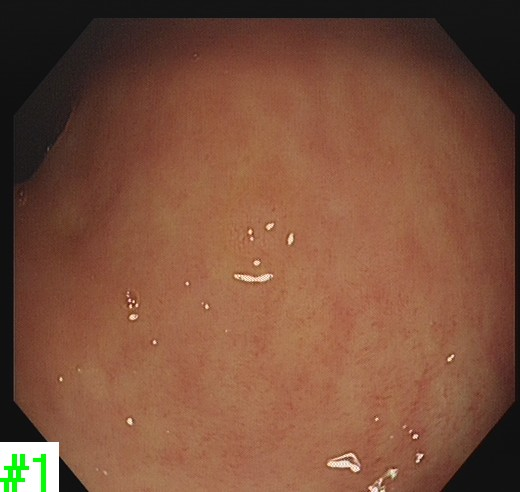adenoma: (216, 192, 287, 260)
